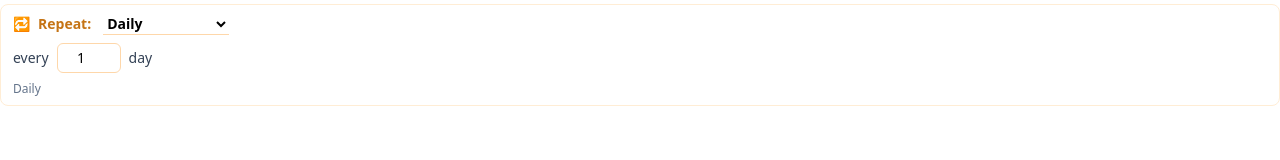
Test: RecurrenceEditor › shows "every 3 days" for daily
This screenshot has width=1280, height=160.
Replace the text in the number field named "Repeat every" with "3". click: x=88, y=58
box: x1=56 y1=43 x2=120 y2=73
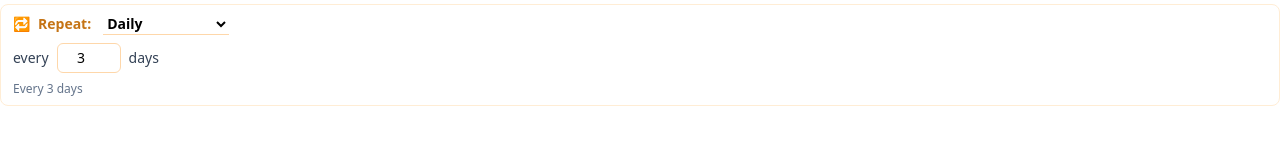
Expected: the text "Every 3 days" is shown, x1=13 y1=80 x2=83 y2=97
